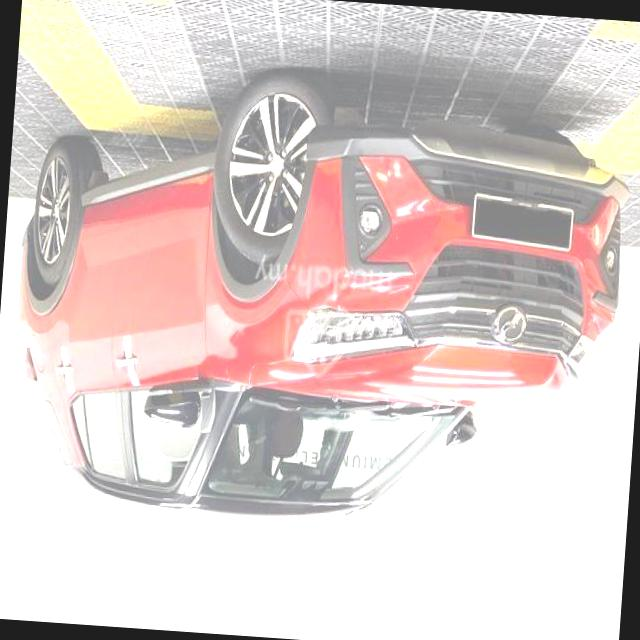PeroduaAtiva: (2, 51, 636, 544)
